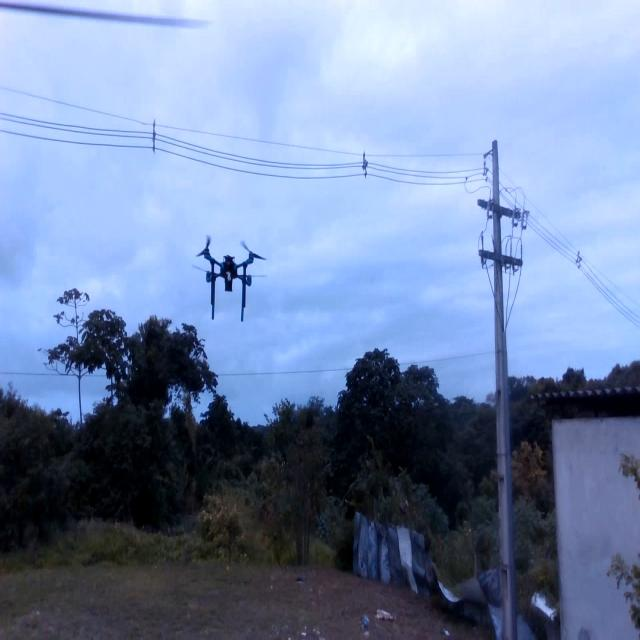-uav-: (186, 230, 276, 334)
